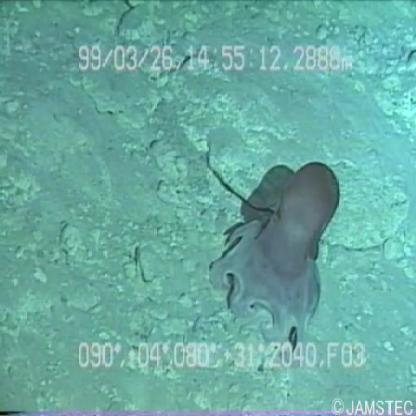Bio: (204, 155, 344, 359)
